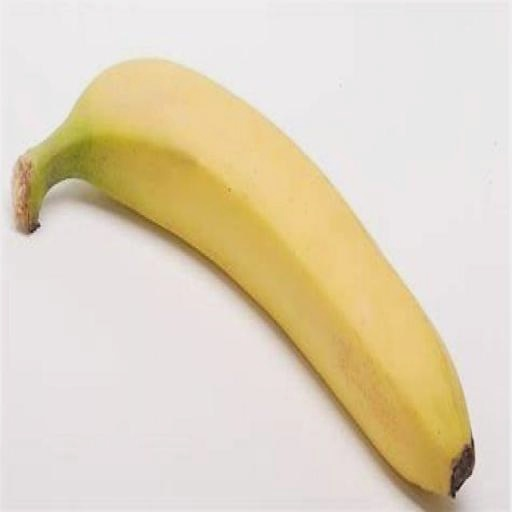fruit: (14, 60, 474, 495)
